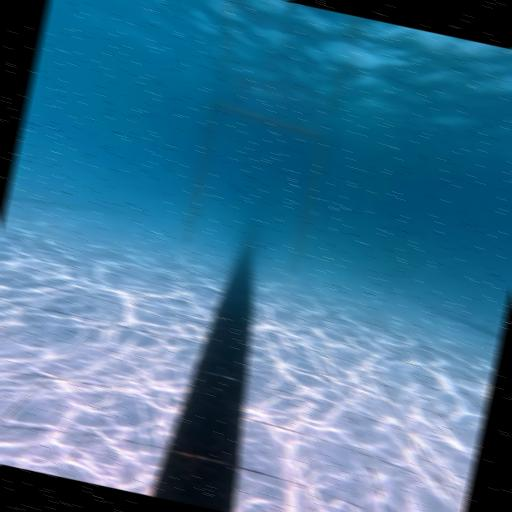gate: (180, 100, 329, 273)
